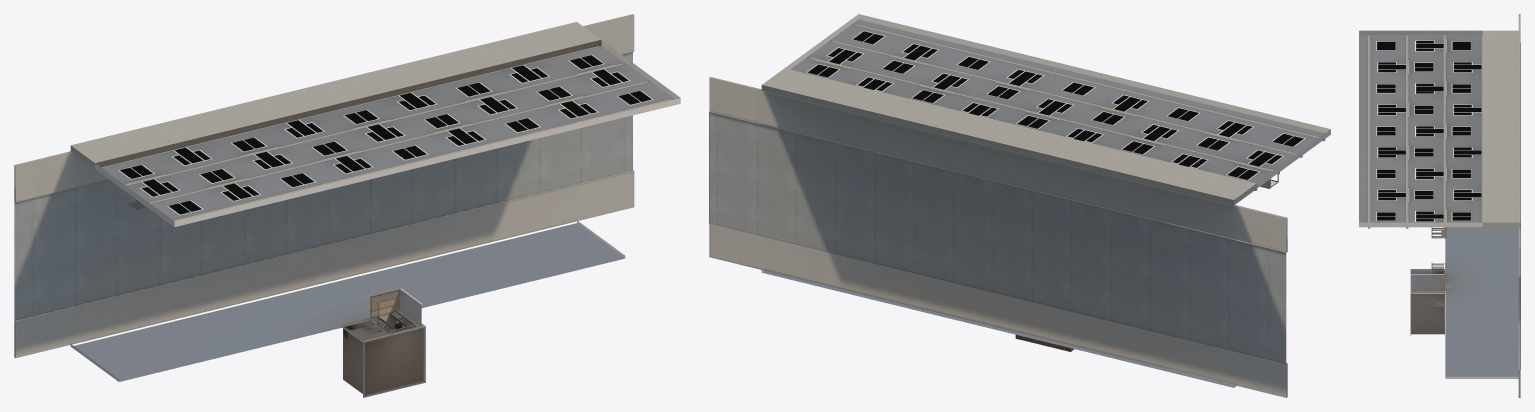
The model's file is oda-ortam.glb.
3 renders of one model, left to right at view 1: azimuth 30°, elevation 25°; view 2: azimuth 150°, elevation 25°; view 3: azimuth 270°, elevation 25°, orthographic. The views are drawn at different scales.
Visible parts, largest first — view 1: sokak_asfalt, karsi_cephe, sokak_kaldirim, dis_duvar, karsi_beton, tavan, karsi_kasa, duvar_sol, duvar_arka, balkon_zemin; view 2: sokak_asfalt, sokak_kaldirim, karsi_cephe, karsi_beton, karsi_kasa, dis_duvar; view 3: karsi_cephe, dis_duvar, karsi_beton, karsi_kasa, duvar_sag, balkon_duvar, sokak_kaldirim, sokak_asfalt, duvar_arka.
Part boxes in pixels (bbox=[...]): sokak_asfalt: bbox=[14, 52, 632, 320]; karsi_cephe: bbox=[95, 39, 680, 227]; sokak_kaldirim: bbox=[14, 14, 634, 358]; dis_duvar: bbox=[70, 221, 625, 381]; karsi_beton: bbox=[70, 22, 674, 224]; tavan: bbox=[363, 326, 425, 397]; karsi_kasa: bbox=[118, 55, 653, 215]; duvar_sol: bbox=[343, 329, 362, 393]; duvar_arka: bbox=[341, 311, 424, 342]; balkon_zemin: bbox=[370, 288, 399, 317]; sokak_asfalt: bbox=[709, 112, 1286, 363]; sokak_kaldirim: bbox=[709, 77, 1287, 397]; karsi_cephe: bbox=[785, 14, 1330, 188]; karsi_beton: bbox=[761, 23, 1325, 205]; karsi_kasa: bbox=[806, 30, 1305, 180]; dis_duvar: bbox=[761, 270, 1236, 387]; karsi_cephe: bbox=[1359, 30, 1482, 227]; dis_duvar: bbox=[1445, 227, 1518, 378]; karsi_beton: bbox=[1368, 30, 1520, 238]; karsi_kasa: bbox=[1376, 40, 1481, 221]; duvar_sag: bbox=[1411, 294, 1444, 334]; balkon_duvar: bbox=[1411, 274, 1444, 291]; sokak_kaldirim: bbox=[1518, 14, 1520, 397]; sokak_asfalt: bbox=[1520, 43, 1520, 369]; duvar_arka: bbox=[1411, 269, 1444, 293].
Bounding box in the file's own units: 44000 × 17321 × 12820.
Materials: 23 (23 with a texture image).
